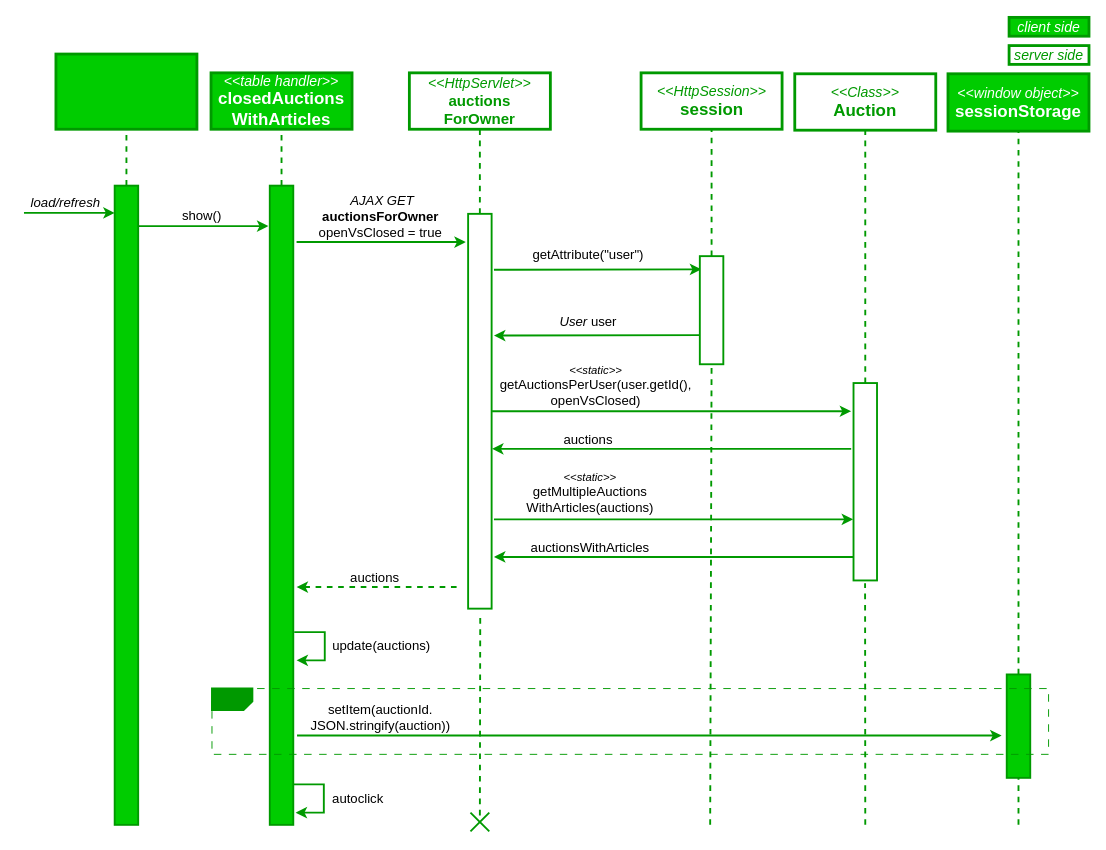
This 1106x850 diagram has some shape labels left out. The shapes that lost their labels are listed below. From the top down, each one's box as (x1, y1, x2, y2) in pixels, then its label:
(54, 52, 198, 130): <<page load>> home.html sell.js
(211, 687, 253, 711): loop
